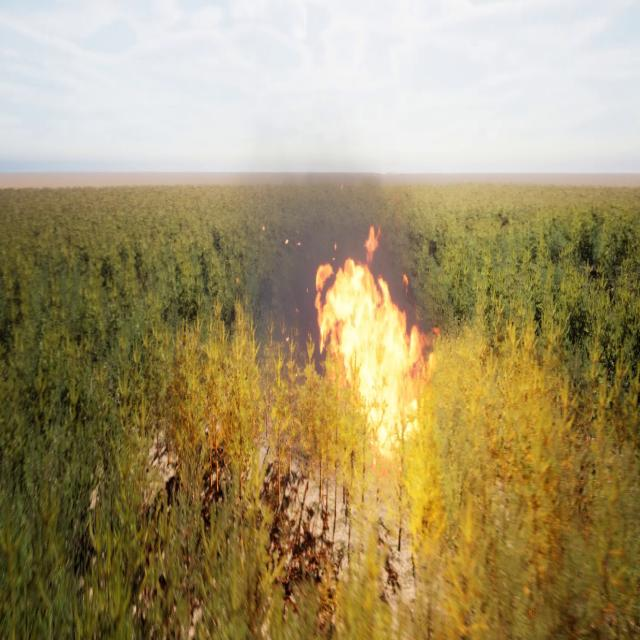fire: (308, 224, 441, 454)
smoke: (257, 153, 425, 374)
